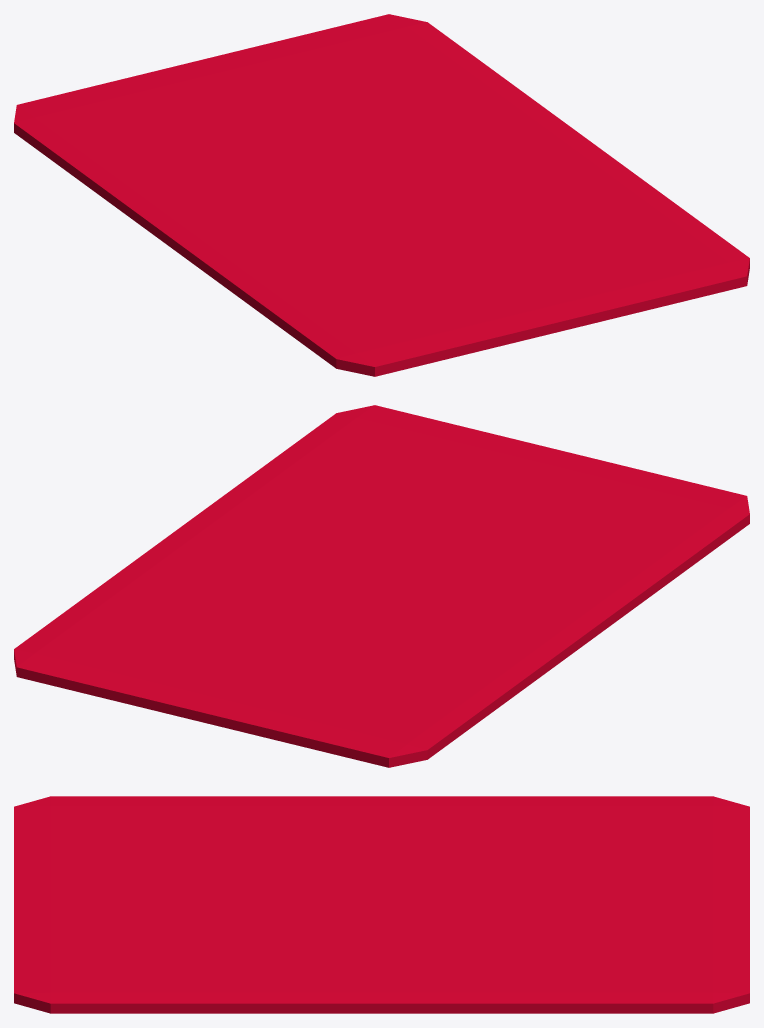
File: card.glb
3 renders of one model, top to bottom at view 1: azimuth 30°, elevation 25°; view 2: azimuth 150°, elevation 25°; view 3: azimuth 270°, elevation 25°, orthographic. The views are drawn at different scales.
Visible parts, largest first — view 1: card; view 2: card; view 3: card.
Part boxes in pixels (x1,y1,x2,y2): card: (14,14,749,376); card: (14,405,749,767); card: (14,796,749,1013).
Size of what is drawn, in the model's own units: 2 by 0.05 by 3.
